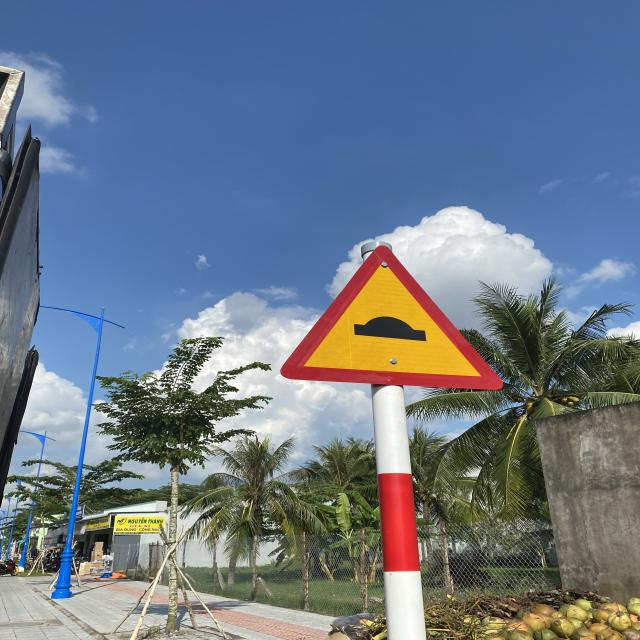Duong_Cong_Ben_Phai: (276, 244, 502, 390)
